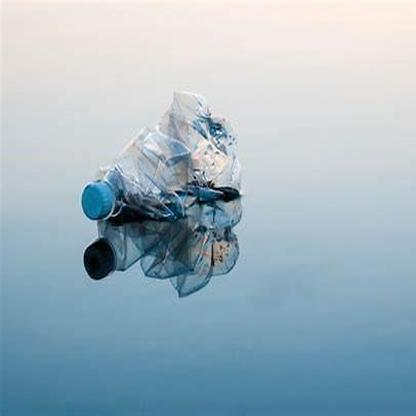plastic bottle: (81, 90, 241, 219)
